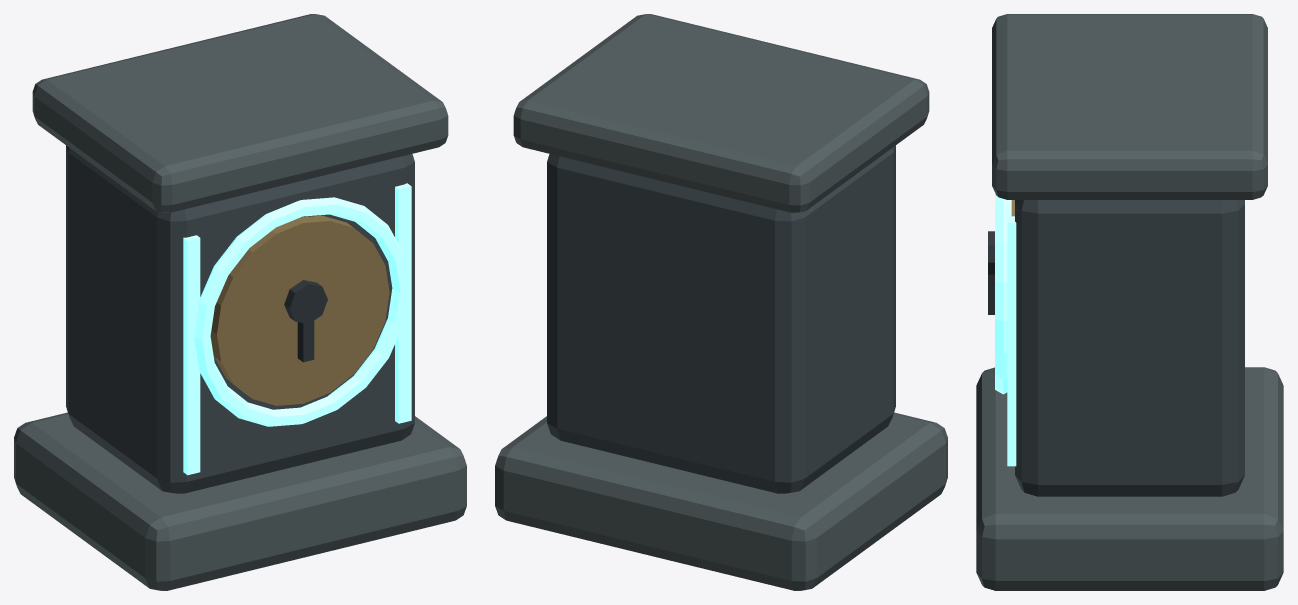
The model's file is wind_lock.glb.
The picture shows the model from 3 angles, left to right: view 1: azimuth 30°, elevation 25°; view 2: azimuth 150°, elevation 25°; view 3: azimuth 270°, elevation 25°; orthographic projection. The views are drawn at different scales.
Parts seen in each view (by area): view 1: WindLock; view 2: WindLock; view 3: WindLock.
Boxes of the visible parts, left/top/right/bottom form: WindLock: left=14, top=14, right=466, bottom=590; WindLock: left=495, top=14, right=947, bottom=590; WindLock: left=976, top=14, right=1283, bottom=590.
Bounding box in the file's own units: 1 × 1.25 × 0.8.
